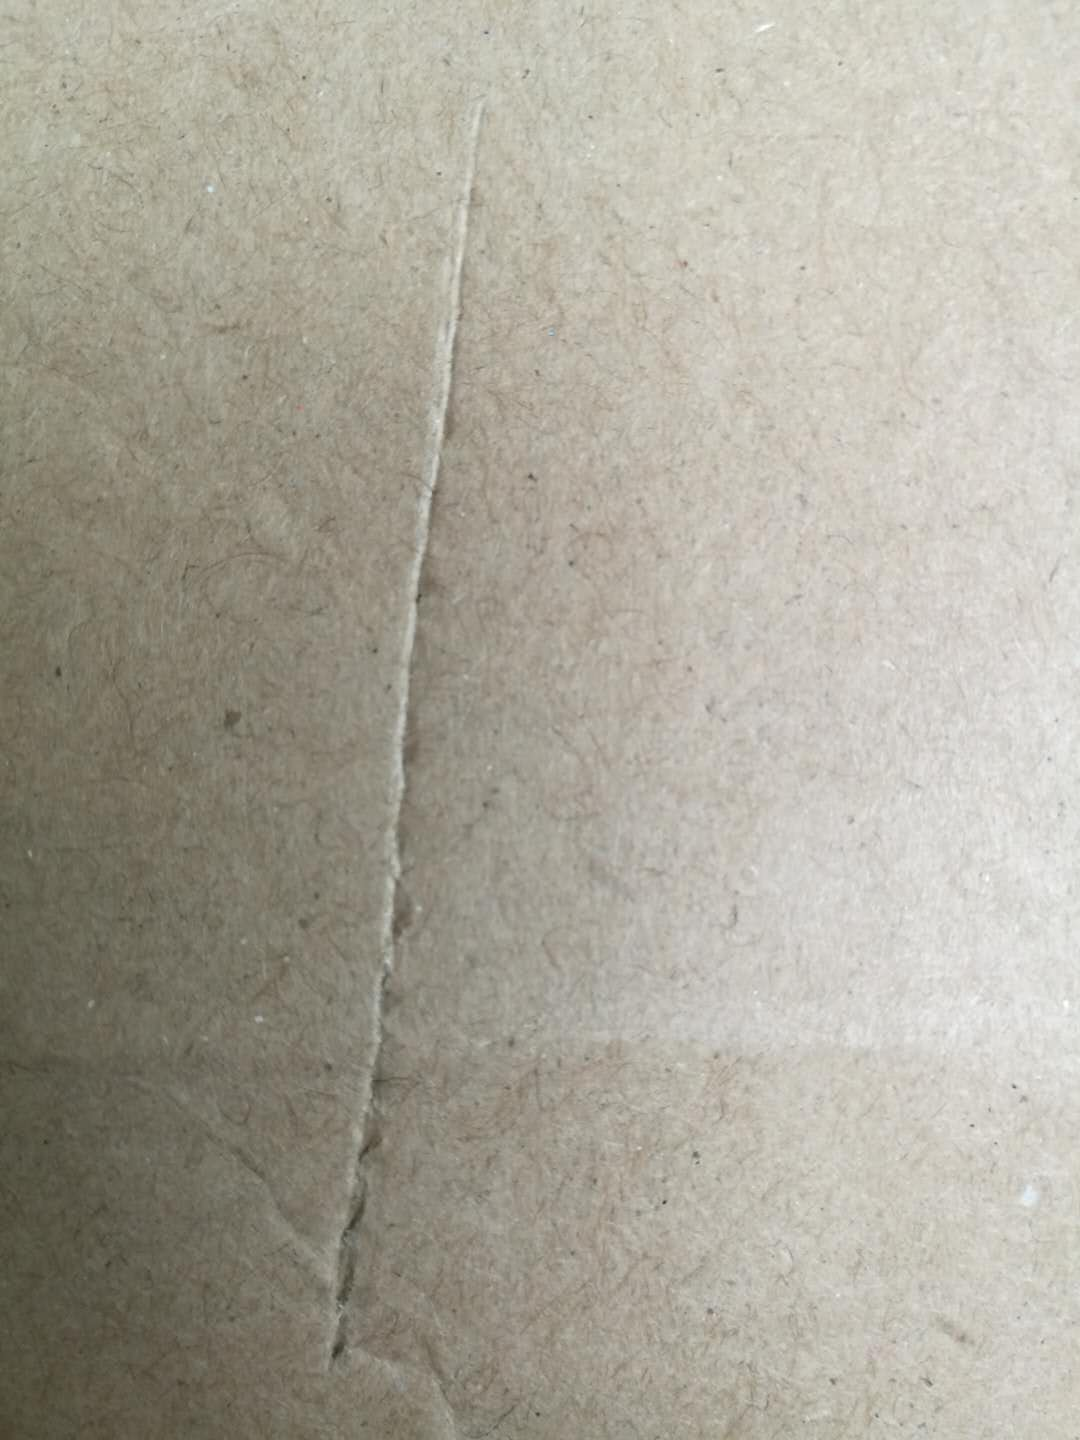defect: (275, 75, 503, 1439)
